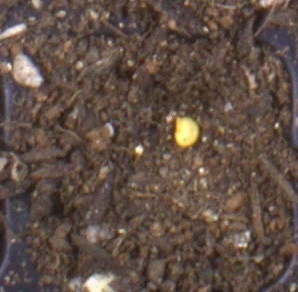chilli seed: (174, 115, 200, 147)
